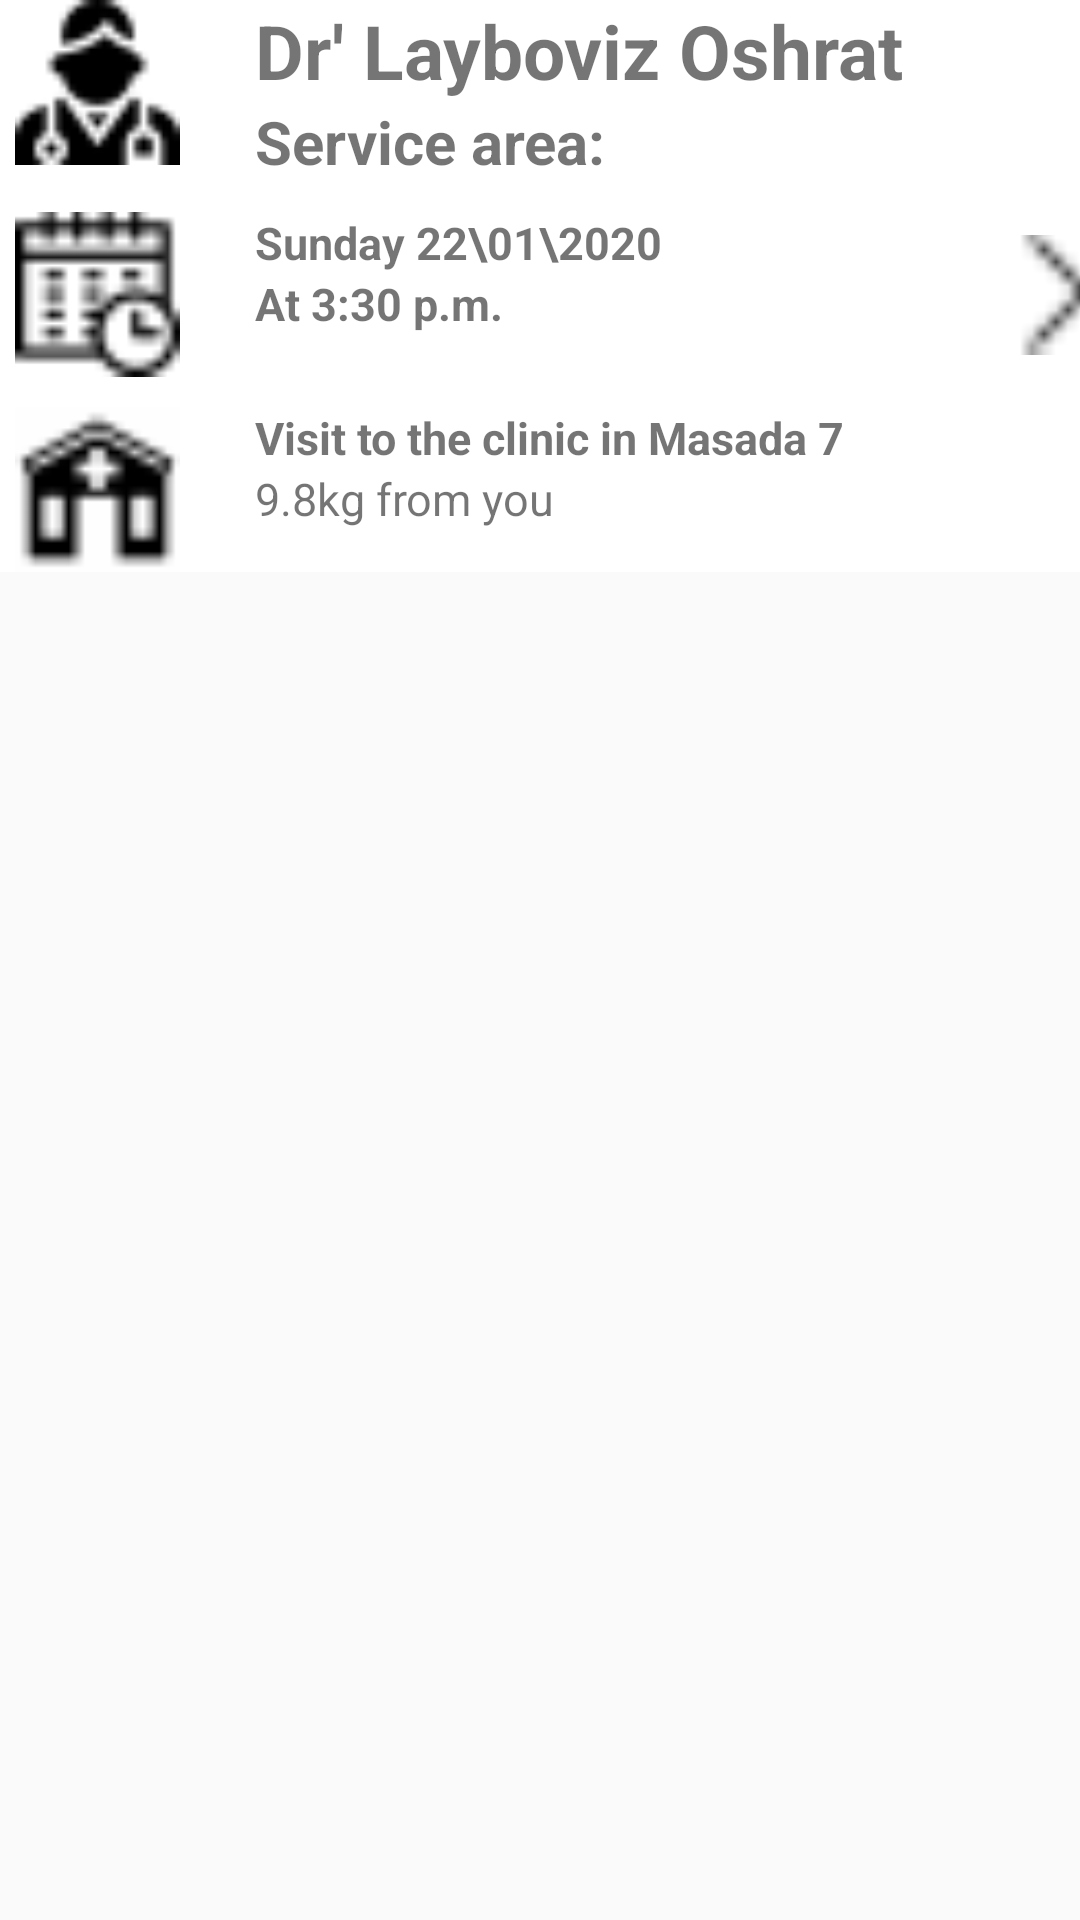

Screen size 1080x1920. Icon name, then its center in pixels as (x=x, y=y):
calendarrr: (x=97, y=294)
doctor: (x=97, y=82)
